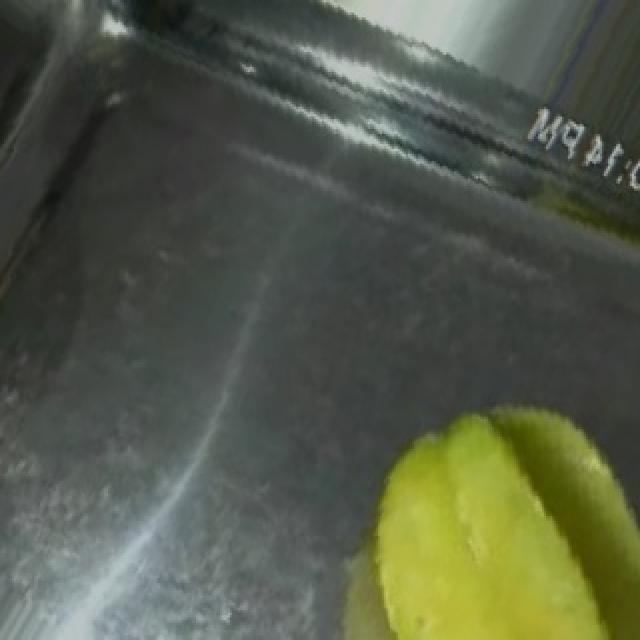fruit: (312, 359, 638, 640)
